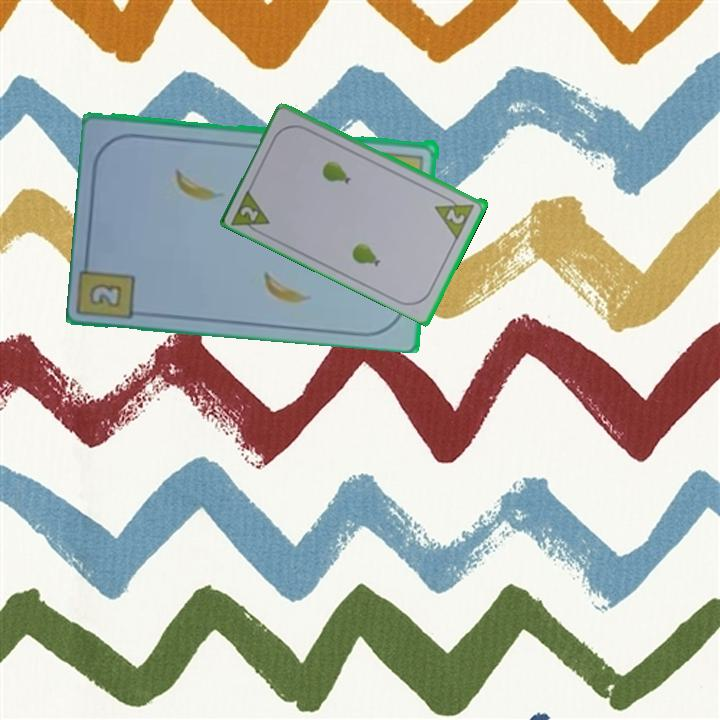2b: (85, 280, 126, 310)
2p: (443, 205, 468, 227), (237, 202, 262, 224)
